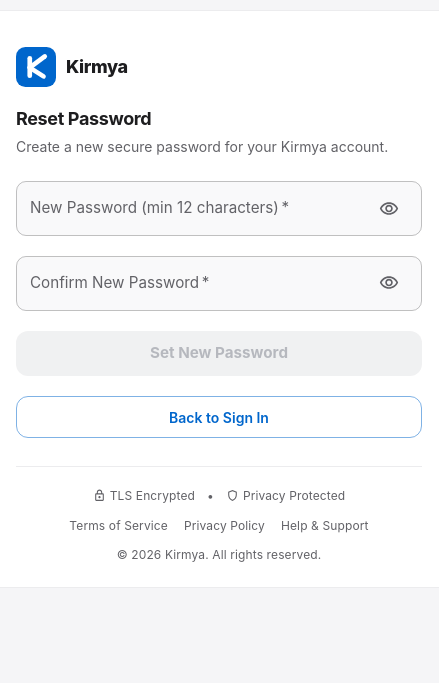
Test: ResetPasswordPage › reports rate limiting distinctly from a rejected link
Type "ReplacementP@ssw0rd456!" into the password field labelled "New Password (min 12 characters) *".
click(188, 208); type("ReplacementP@ssw0rd456!")  # box [16,181,359,236]
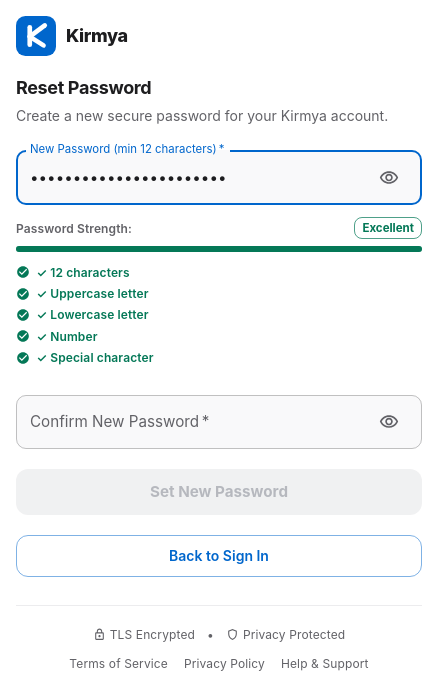
Type "ReplacementP@ssw0rd456!" into the password field labelled "Confirm New Password *".
click(188, 422); type("ReplacementP@ssw0rd456!")  # box [16,395,359,449]
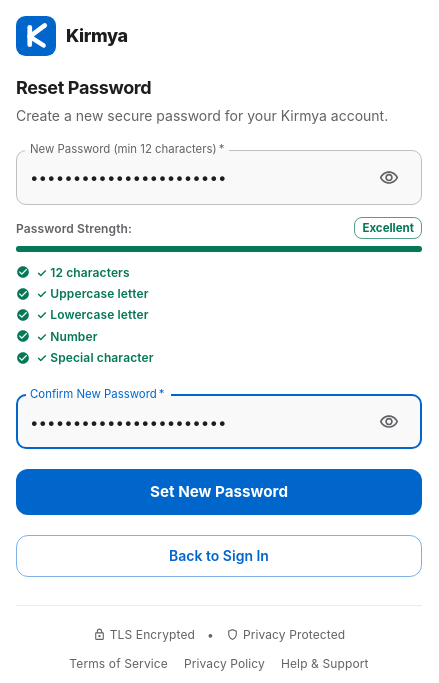
Click the button "Set New Password".
click(219, 492)  # box [16,469,422,515]
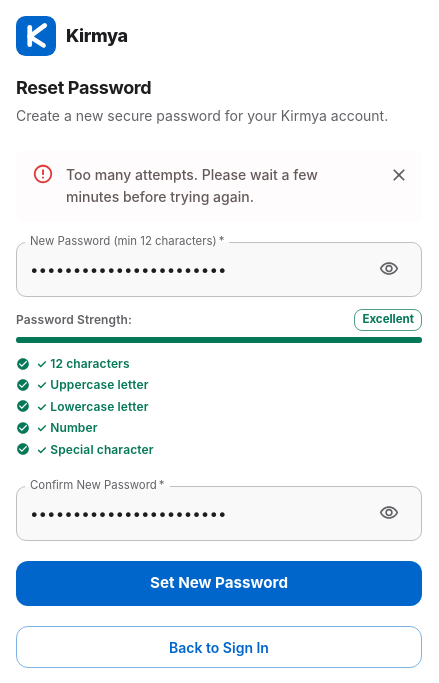
Expected: the message shows "Too many attempts", [66,166,318,205]
